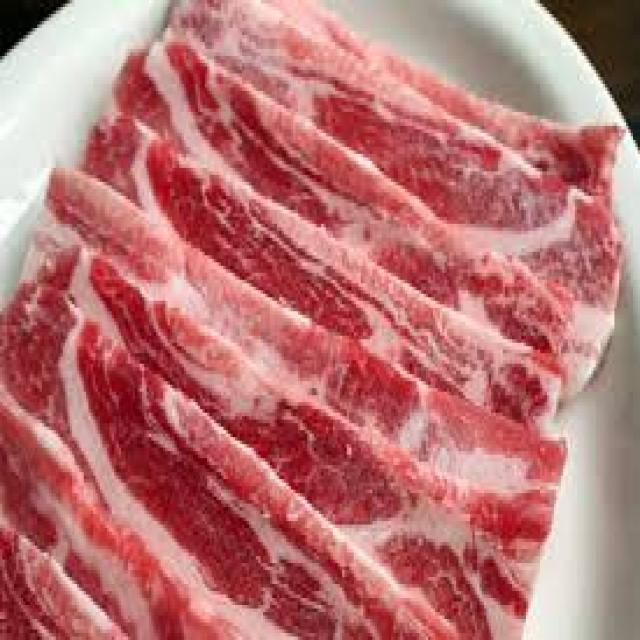Pork: (0, 3, 624, 640)
